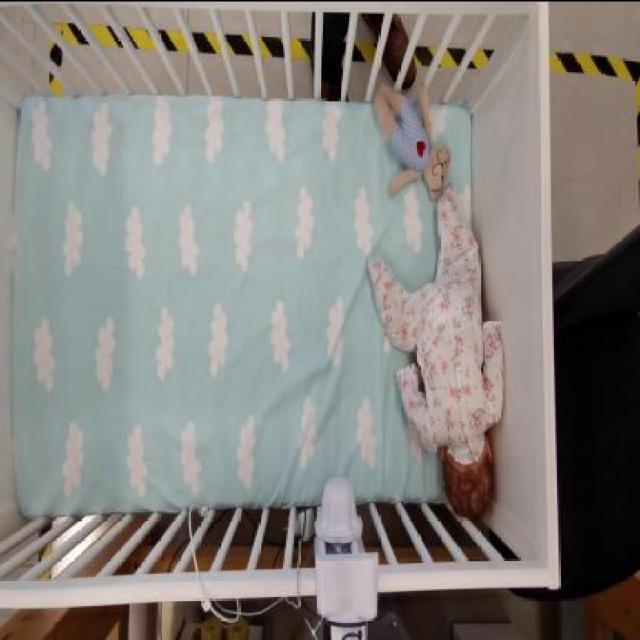baby: (361, 182, 508, 522)
